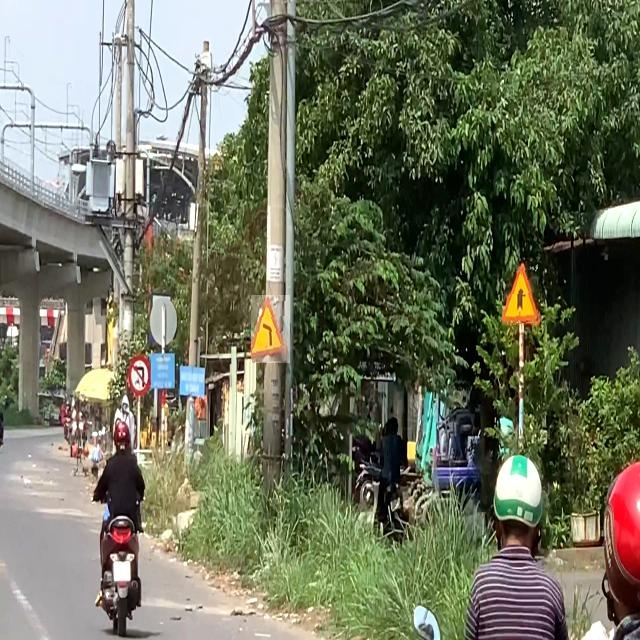bien_cam: (251, 295, 290, 363), (502, 261, 542, 325)
